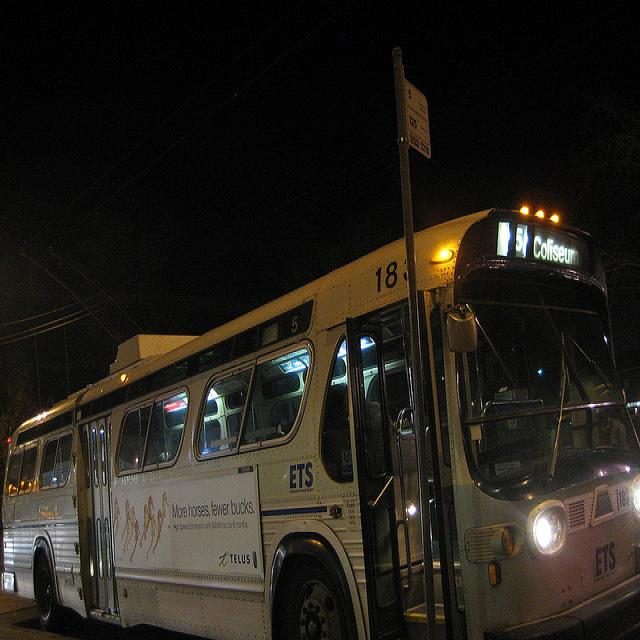Bus: (17, 195, 640, 640)
